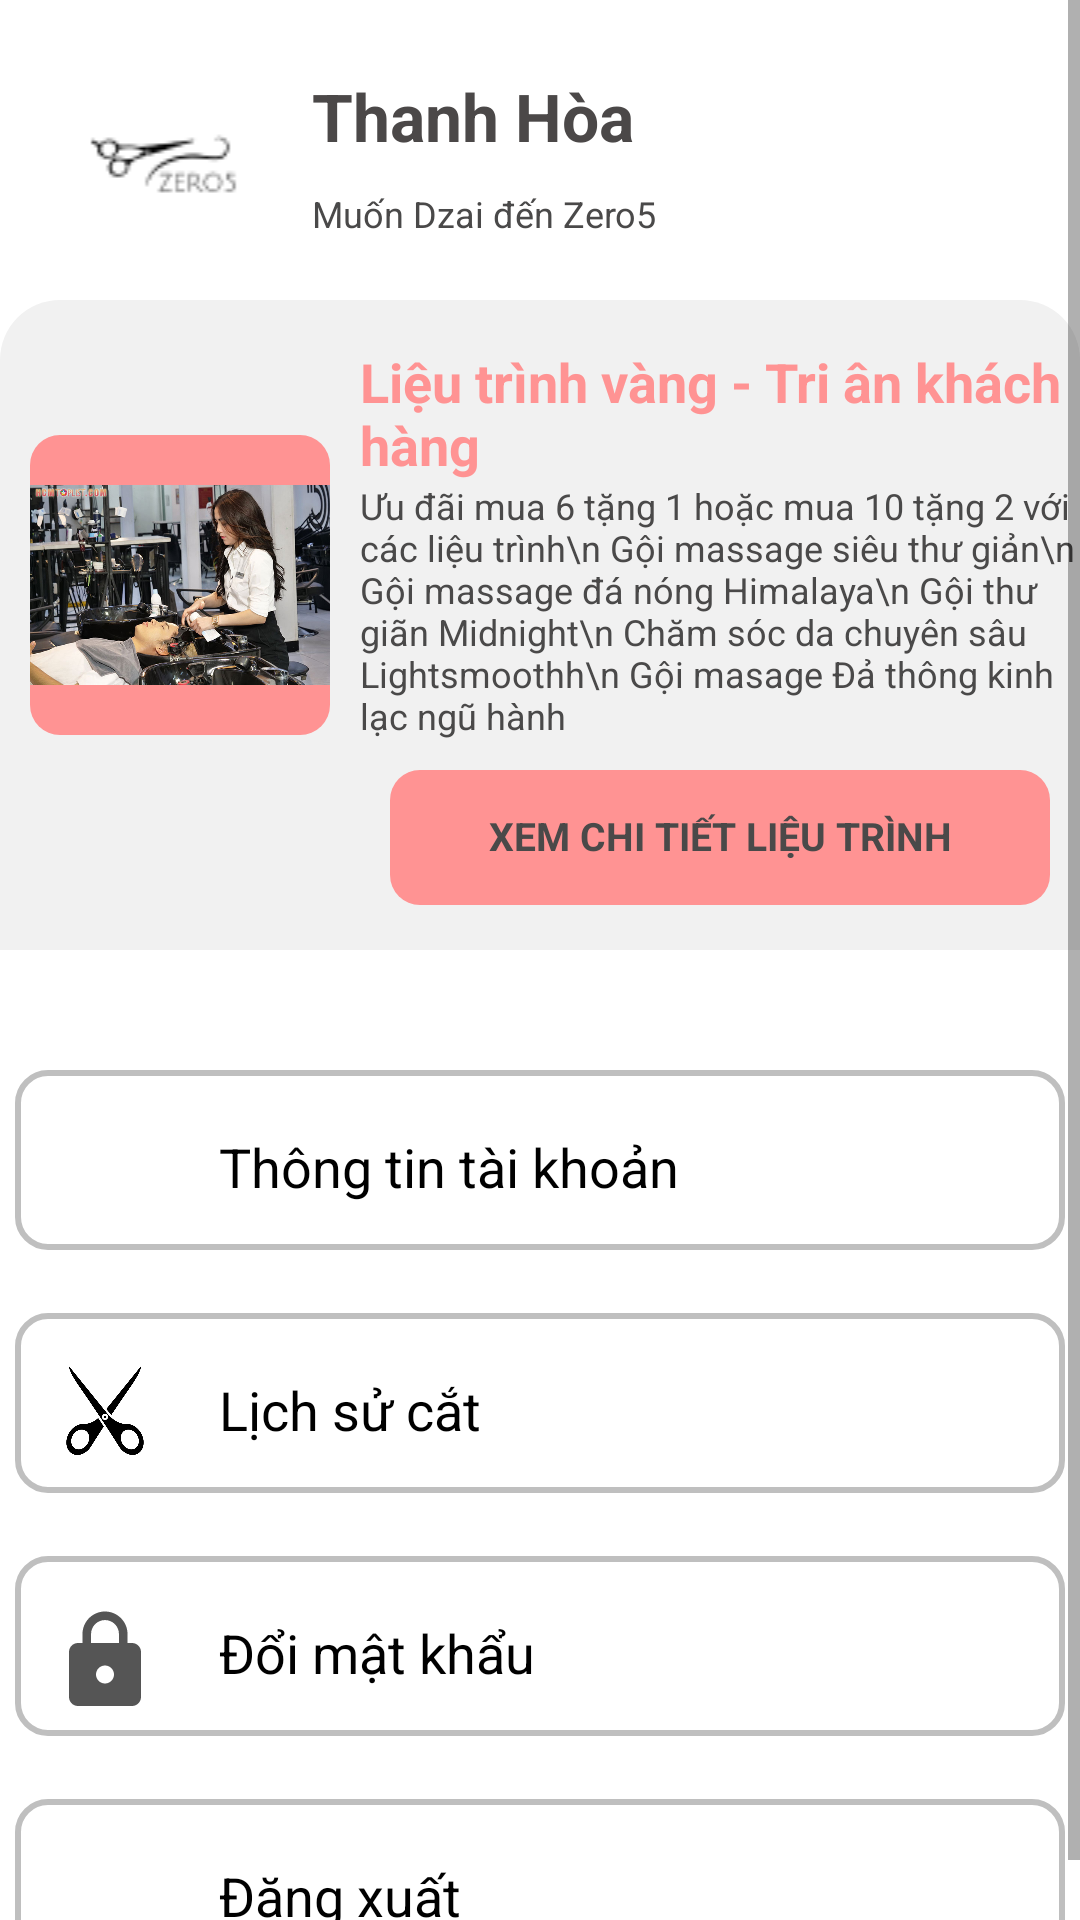

Icon bounding boxes for this 1080x1920 phone screenshot, format (x1, y1, x2, y2):
lock: (69, 1611, 141, 1706)
